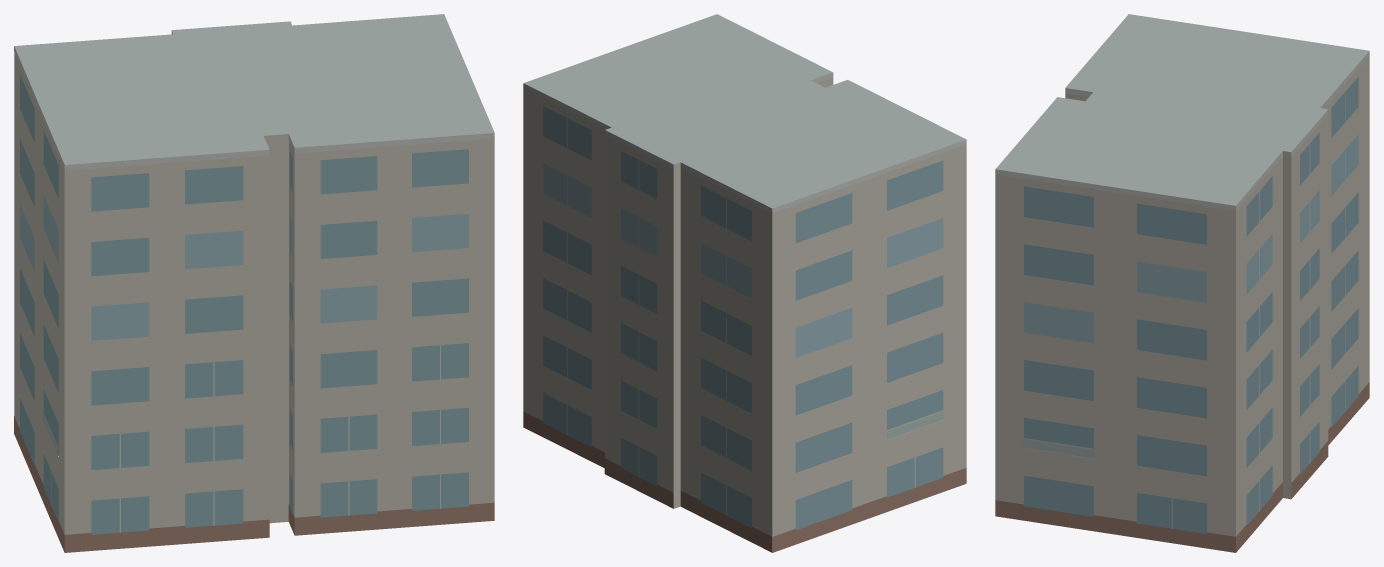
File: survey-upis-32849526.glb
3 renders of one model, left to right at view 1: azimuth 30°, elevation 25°; view 2: azimuth 150°, elevation 25°; view 3: azimuth 270°, elevation 25°, orthographic. The views are drawn at different scales.
Parts seen in each view (by area): view 1: survey-upis-32849526.tmp; view 2: survey-upis-32849526.tmp; view 3: survey-upis-32849526.tmp.
Part boxes in pixels (left/top/right/bottom): survey-upis-32849526.tmp: left=14, top=14, right=494, bottom=552; survey-upis-32849526.tmp: left=523, top=14, right=966, bottom=552; survey-upis-32849526.tmp: left=995, top=14, right=1369, bottom=552.
Bounding box in the file's own units: 20.4 × 17.2 × 16.82.
